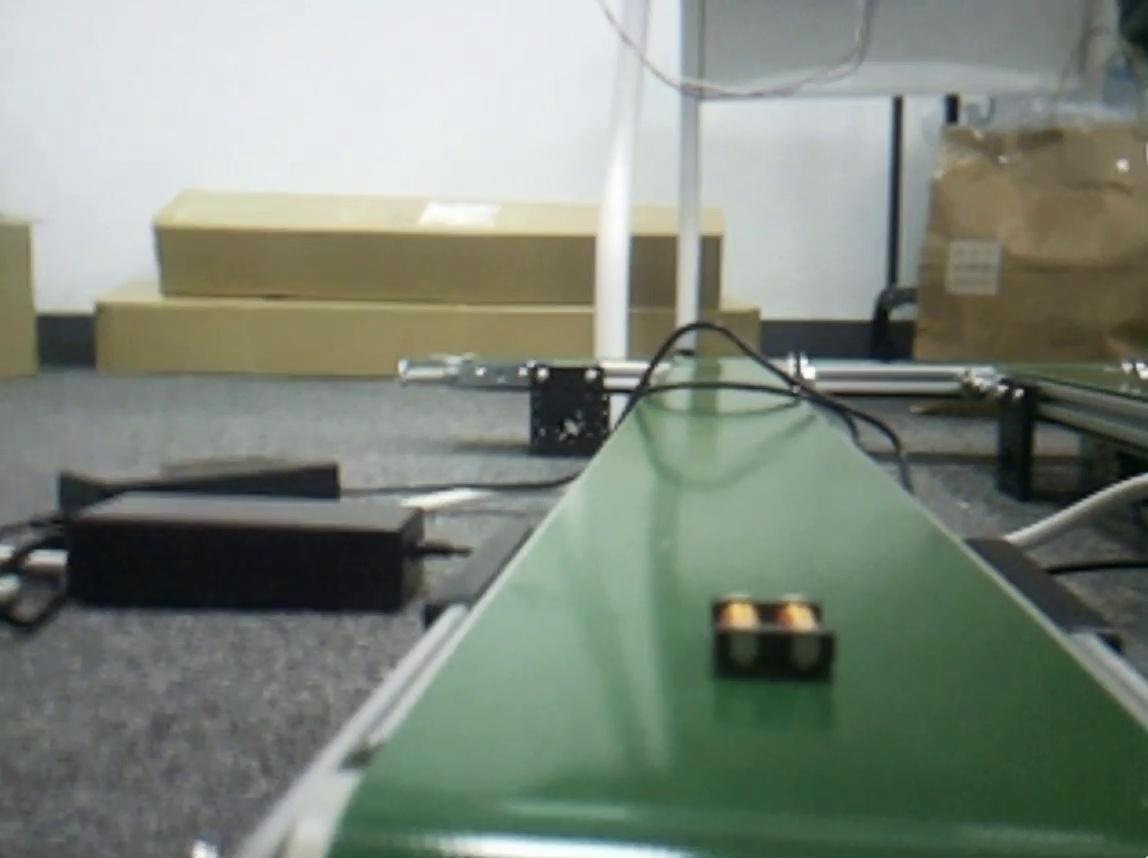inductor: (713, 595, 831, 682)
